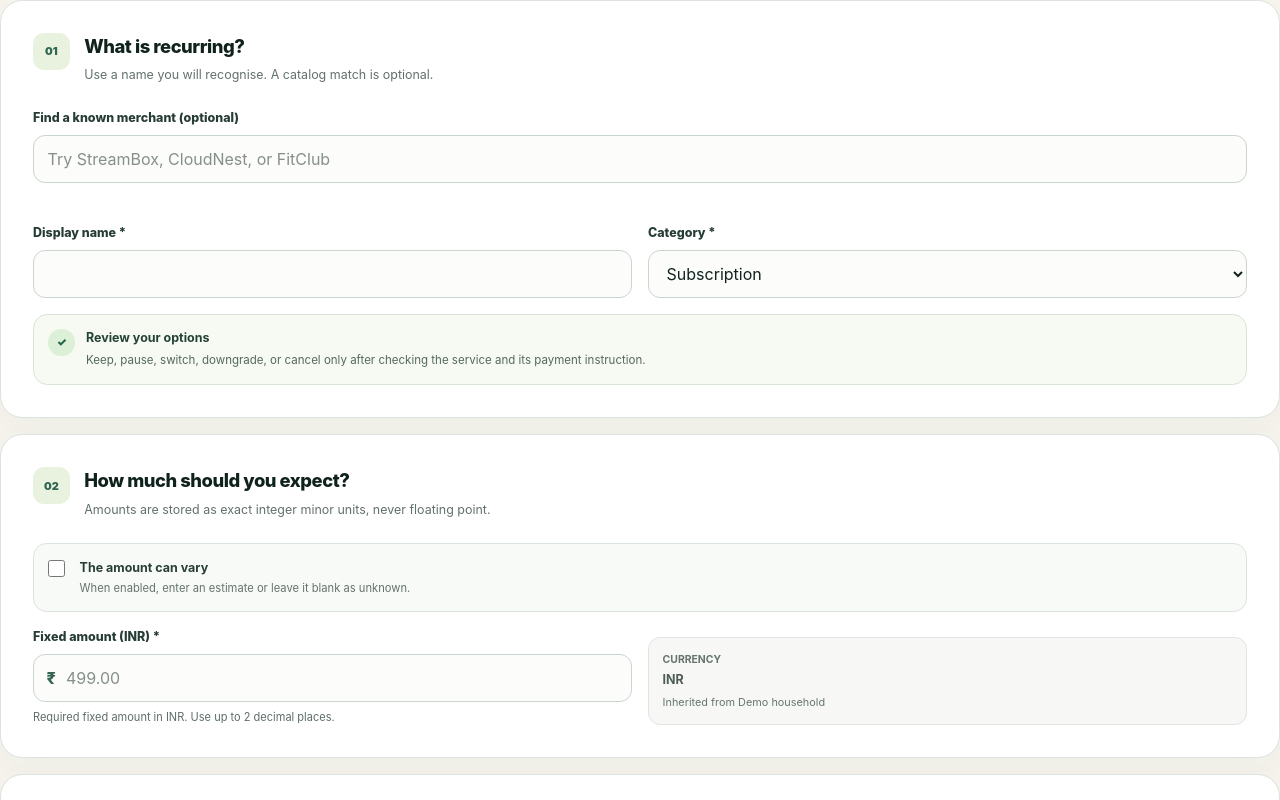
Test: CommitmentForm › distinguishes a merchant search failure from a valid empty result
Type "Stream" into the search field labelled "Find a known merchant (optional)".
click(640, 159); type("Stream")  # box [33,135,1247,183]
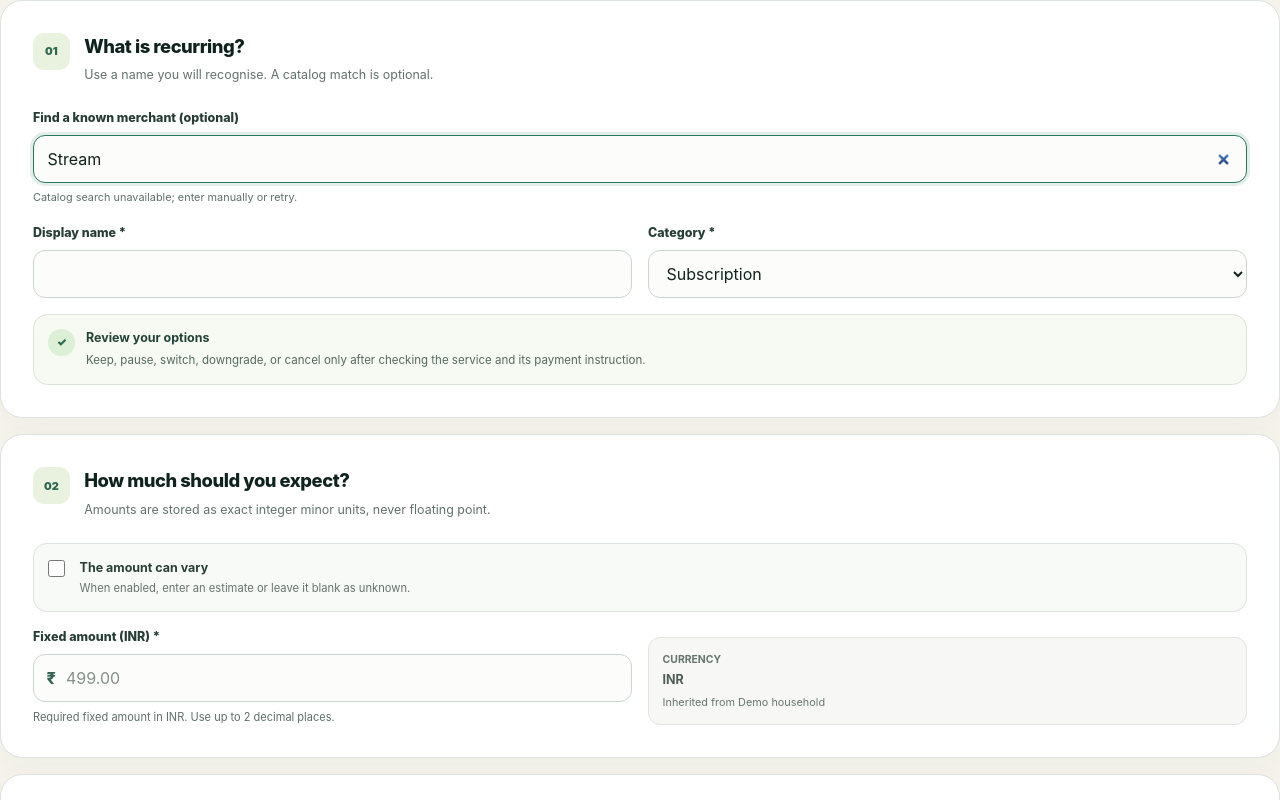
Expected: the text "Catalog search unavailable; enter manually or retry." is shown, [33,190,297,204]
